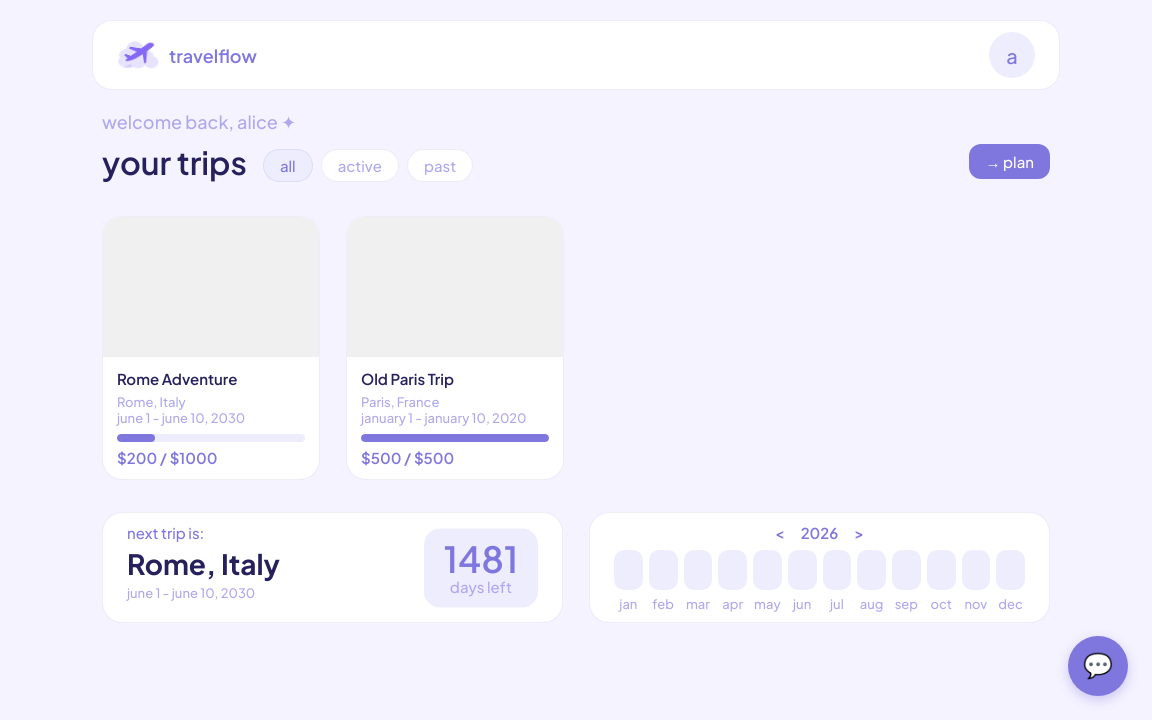
Scenario: TripsPage › filter "all" shows all trips
This screenshot has width=1152, height=720.
Expected: the button "all" is shown, [263,149,313,182]
Click the button "past" at (440, 166), box [407,149,473,182]
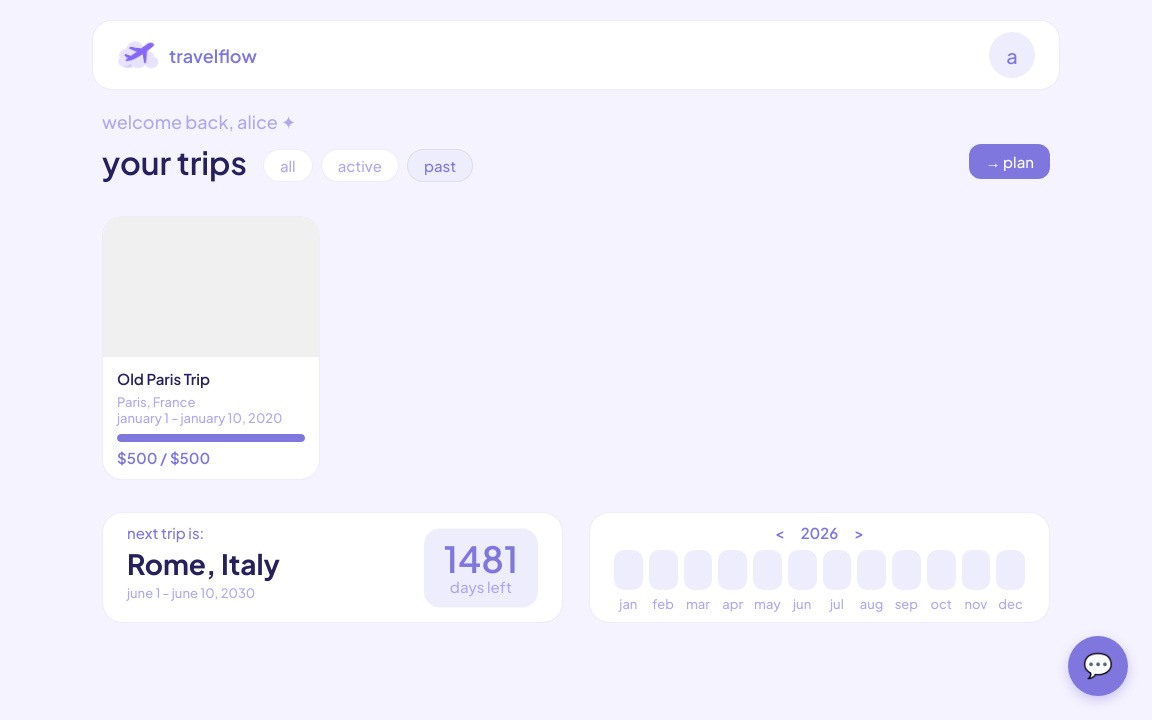
Click the button "all" at (288, 166), box [263,149,313,182]
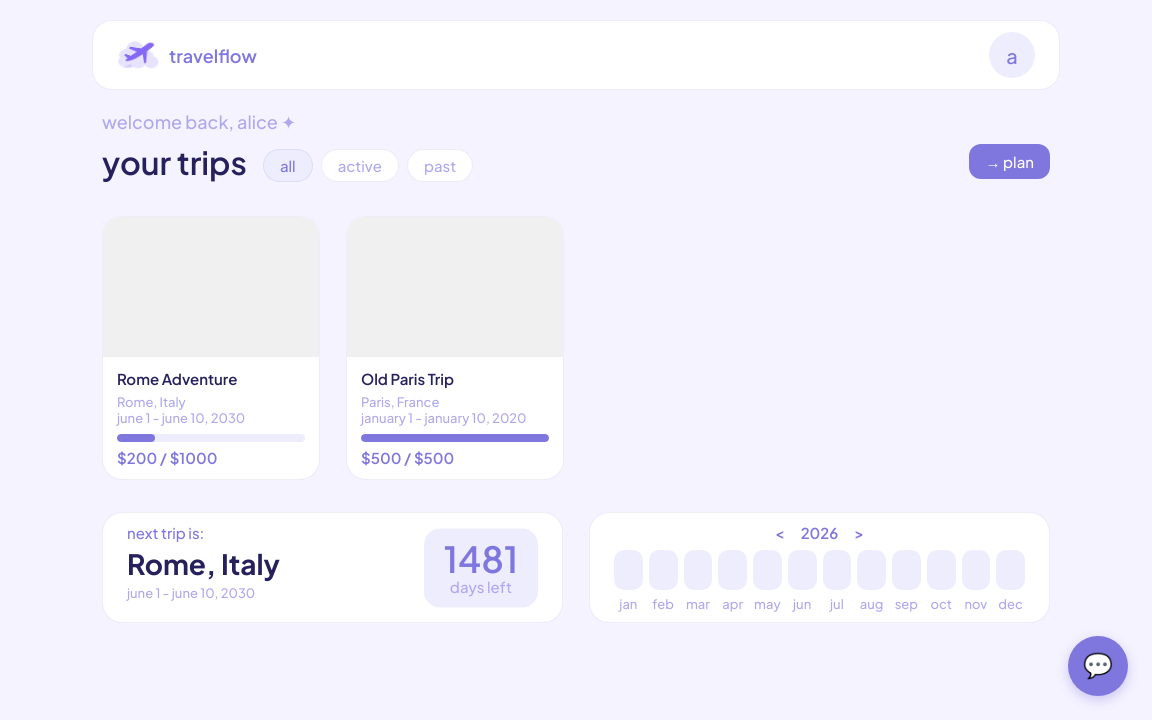
Expected: the heading "Old Paris Trip" is shown, [361,369,454,388]
Result: the heading "Rome Adventure" is shown at [117,369,238,388]
